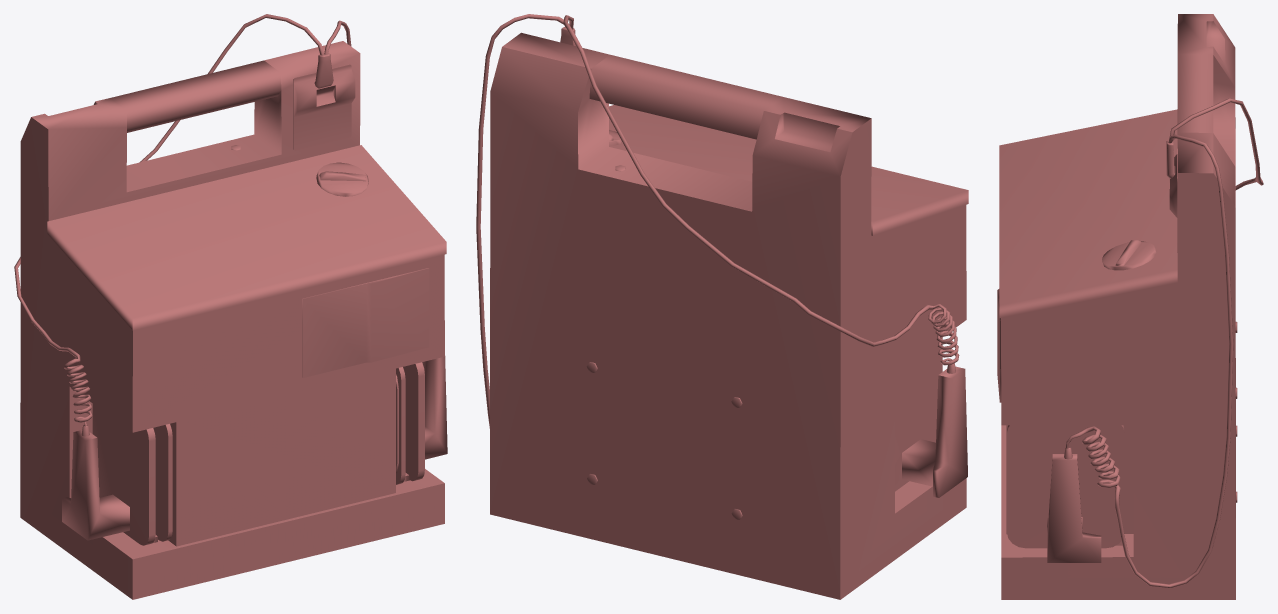
The model's file is SM_Defibrillator_02a.FBX.
3 renders of one model, left to right at view 1: azimuth 30°, elevation 25°; view 2: azimuth 150°, elevation 25°; view 3: azimuth 270°, elevation 25°, orthographic. The views are drawn at different scales.
Parts seen in each view (by area): view 1: SM_Defibrillator_02a_LOD0; view 2: SM_Defibrillator_02a_LOD0; view 3: SM_Defibrillator_02a_LOD0.
Boxes of the visible parts, left/top/right/bottom form: SM_Defibrillator_02a_LOD0: left=14, top=14, right=447, bottom=599; SM_Defibrillator_02a_LOD0: left=476, top=14, right=968, bottom=599; SM_Defibrillator_02a_LOD0: left=997, top=14, right=1263, bottom=599.
Size of what is drawn, in the model's own units: 36.11 by 41.75 by 21.63.
